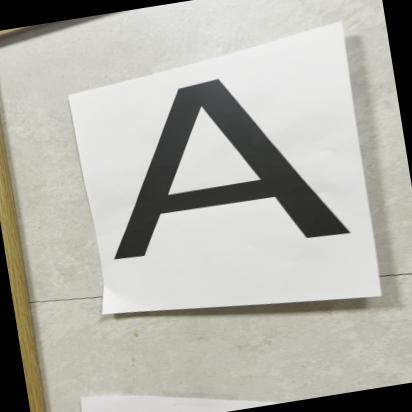seat: (78, 56, 356, 280)
